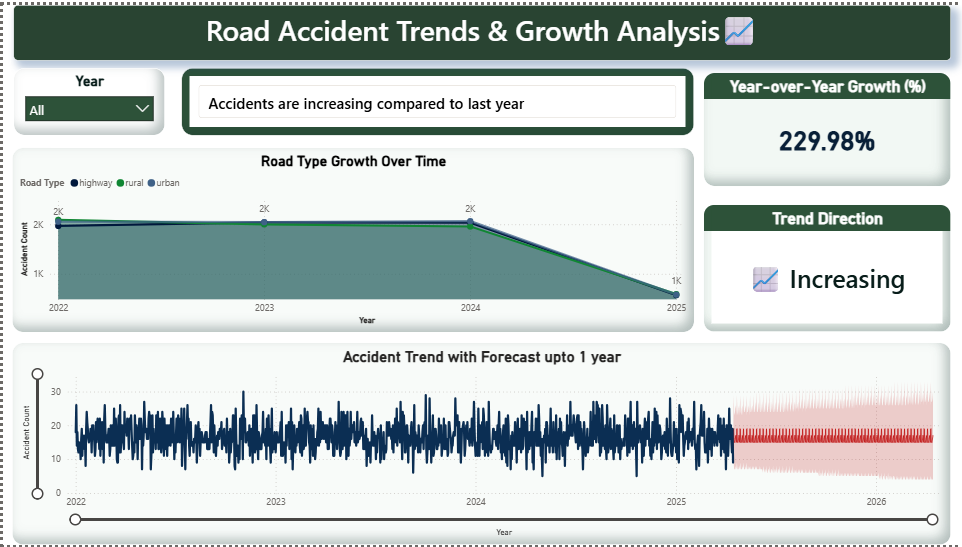

Layout of this report page (visuals, bound fields, positions):
{"tool":"powerbi","page":{"name":"Growth & Trend Analysis","canvas":[1280,720],"ordinal":5},"visuals":[{"type":"areaChart","title":"Road Type Growth Over Time","fields":{"Category":["Accident_Data.Year"],"Series":["Accident_Data.Road Type"],"Y":["Accident_Data.Accident Count"]},"box":[11.7,190,910,246.7],"z":0},{"type":"lineChart","title":"Accident Trend with Forecast upto 1 year","fields":{"Category":["Accident_Data.Date.Variation.Date Hierarchy.Year","Accident_Data.Date.Variation.Date Hierarchy.Quarter","Accident_Data.Date.Variation.Date Hierarchy.Month","Accident_Data.Date.Variation.Date Hierarchy.Day"],"Y":["Accident_Data.Accident Count"]},"box":[12,450,1252,270],"z":1000},{"type":"card","title":"Year-over-Year Growth (%)","fields":{"Values":["Accident_Data.YoY Growth %"]},"box":[933.3,90,330,151.7],"z":2000},{"type":"cardVisual","title":"Trend Direction","fields":{"Data":["Accident_Data.Growth Indicator"]},"box":[933.3,266.7,330,170],"z":3000},{"type":"cardVisual","fields":{"Data":["Accident_Data.Trend Insight"]},"box":[238.3,83.3,683.3,90],"z":4000},{"type":"textbox","box":[14,0,1250,74],"z":5000},{"type":"slicer","title":"Year","fields":{"Values":["Accident_Data.Year"]},"box":[14,84,202,90],"z":6000}]}

Visuals, with their boxes in screenshot pixels (x1, y1, x2, y2), scaled from the page's 1280x720 canvas onto the 962x547 screenshot:
"Road Type Growth Over Time" areaChart: locate(9, 144, 693, 332)
"Accident Trend with Forecast upto 1 year" lineChart: locate(9, 342, 950, 546)
"Year-over-Year Growth (%)" card: locate(701, 68, 949, 184)
"Trend Direction" cardVisual: locate(701, 203, 949, 332)
cardVisual - Accident_Data.Trend Insight: locate(179, 63, 693, 132)
textbox: locate(11, 0, 950, 56)
"Year" slicer: locate(11, 64, 162, 132)
